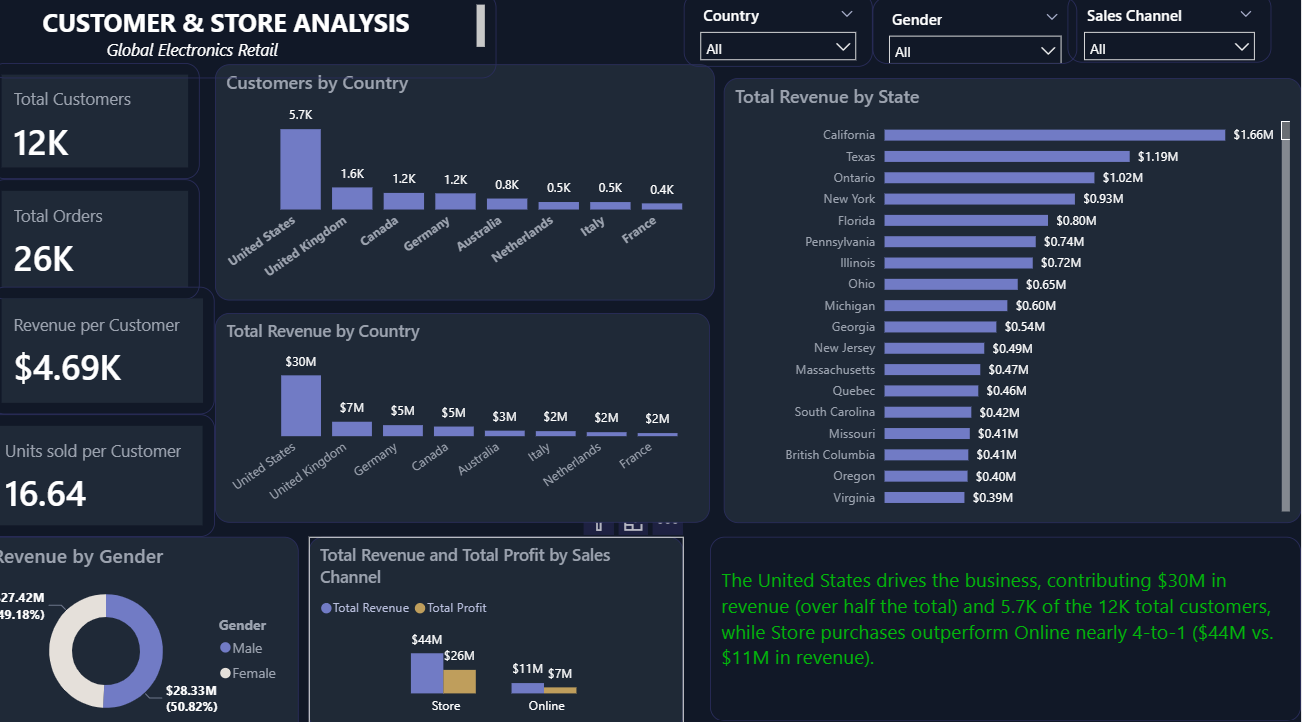

What the dashboard file says about the page in this screenshot:
{"tool":"powerbi","page":{"name":"Customer & Store Analysis","canvas":[1280,720],"ordinal":2},"visuals":[{"type":"cardVisual","fields":{"Data":["Sales.Total Customers"]},"box":[14.5,67.6,202.7,112.2],"z":0},{"type":"cardVisual","fields":{"Data":["Customers.Total Orders"]},"box":[14.5,179.8,202.7,115.8],"z":1000},{"type":"cardVisual","fields":{"Data":["Sales.Revenue per Customer"]},"box":[14.5,283.5,217.2,123.1],"z":2000},{"type":"cardVisual","fields":{"Data":["Sales.Units sold per Customer"]},"box":[6,406.6,225.6,118.2],"z":3000},{"type":"clusteredColumnChart","title":"Customers by Country","fields":{"Y":["Sales.Total Customers"],"Category":["Customers.Country"]},"box":[231.6,68.8,482.6,228],"z":4000},{"type":"donutChart","title":"Revenue by Gender","fields":{"Y":["Sales.Total Revenue"],"Category":["Customers.Gender"]},"box":[6,524.8,306.4,195.4],"z":5000},{"type":"clusteredBarChart","fields":{"Y":["Sales.Total Revenue"],"Category":["Customers.State"]},"box":[722.7,82,557.4,429.5],"z":6000},{"type":"slicer","fields":{"Values":["Stores.Sales Channel"]},"box":[1054.4,0,196.6,67.6],"z":7000},{"type":"slicer","fields":{"Values":["Customers.Gender"]},"box":[866.2,3.6,197.9,65.1],"z":8000},{"type":"slicer","fields":{"Values":["Stores.Country"]},"box":[684.1,0,182.2,71.2],"z":9000},{"type":"textbox","box":[14.5,0,488.6,82],"z":10000},{"type":"clusteredColumnChart","fields":{"Category":["Stores.Sales Channel"],"Y":["Sales.Total Revenue","Sales.Total Profit"]},"box":[322.1,524.8,361.9,187],"z":11000},{"type":"textbox","box":[709.4,524.8,570.6,178.6],"z":12000},{"type":"clusteredColumnChart","fields":{"Category":["Customers.Country"],"Y":["Sales.Total Revenue"]},"box":[231.6,308.8,477.8,202.7],"z":13000}]}

Visuals, with their boxes in screenshot pixels (x1, y1, x2, y2), scaled from the page's 1280x720 canvas onto the 1302x722 screenshot:
cardVisual - Sales.Total Customers: {"x1": 15, "y1": 68, "x2": 221, "y2": 180}
cardVisual - Customers.Total Orders: {"x1": 15, "y1": 180, "x2": 221, "y2": 296}
cardVisual - Sales.Revenue per Customer: {"x1": 15, "y1": 284, "x2": 236, "y2": 408}
cardVisual - Sales.Units sold per Customer: {"x1": 6, "y1": 408, "x2": 236, "y2": 526}
"Customers by Country" clusteredColumnChart: {"x1": 236, "y1": 69, "x2": 726, "y2": 298}
"Revenue by Gender" donutChart: {"x1": 6, "y1": 526, "x2": 318, "y2": 721}
clusteredBarChart - Sales.Total Revenue x Customers.State: {"x1": 735, "y1": 82, "x2": 1301, "y2": 513}
slicer - Stores.Sales Channel: {"x1": 1073, "y1": 0, "x2": 1273, "y2": 68}
slicer - Customers.Gender: {"x1": 881, "y1": 4, "x2": 1082, "y2": 69}
slicer - Stores.Country: {"x1": 696, "y1": 0, "x2": 881, "y2": 71}
textbox: {"x1": 15, "y1": 0, "x2": 512, "y2": 82}
clusteredColumnChart - Stores.Sales Channel x Sales.Total Revenue: {"x1": 328, "y1": 526, "x2": 696, "y2": 714}
textbox: {"x1": 722, "y1": 526, "x2": 1301, "y2": 705}
clusteredColumnChart - Customers.Country x Sales.Total Revenue: {"x1": 236, "y1": 310, "x2": 722, "y2": 513}
